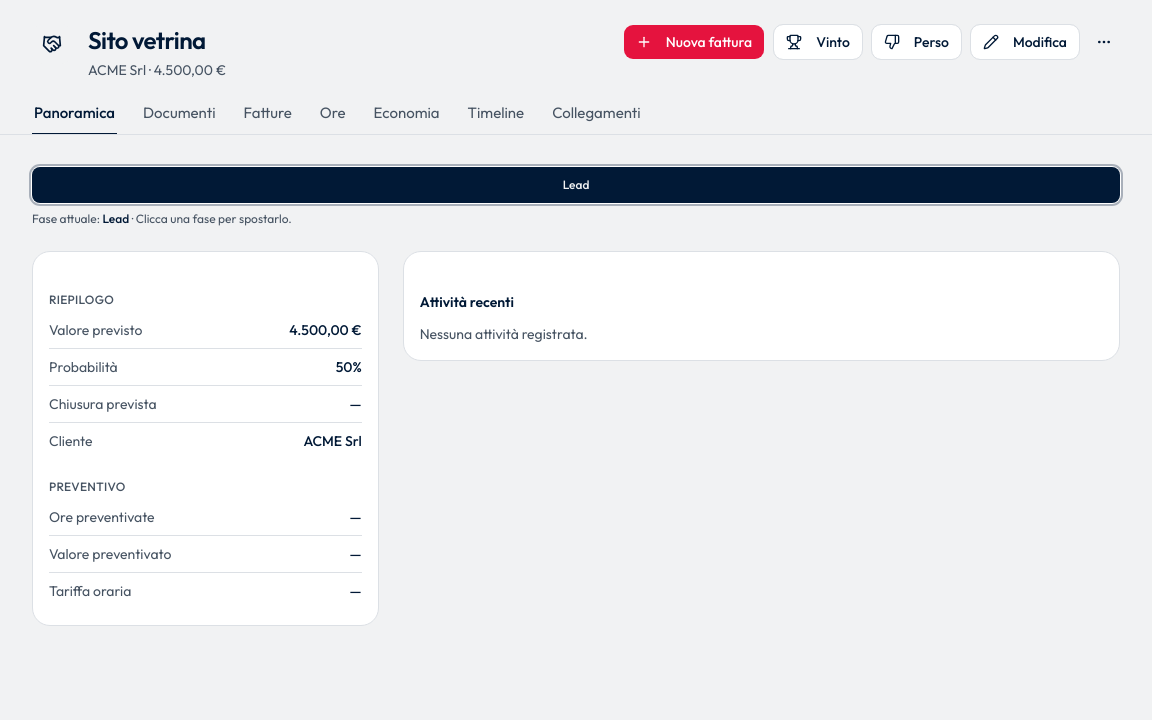
Test: DealDetail › the «Nuova fattura» action › opens a proforma already filled in from the deal
Check: the tab "Panoramica" is shown, box top-left (32, 102), bottom-right (117, 134)
Click the button "Nuova fattura" at (694, 42), box top-left (623, 24), bottom-right (765, 60)
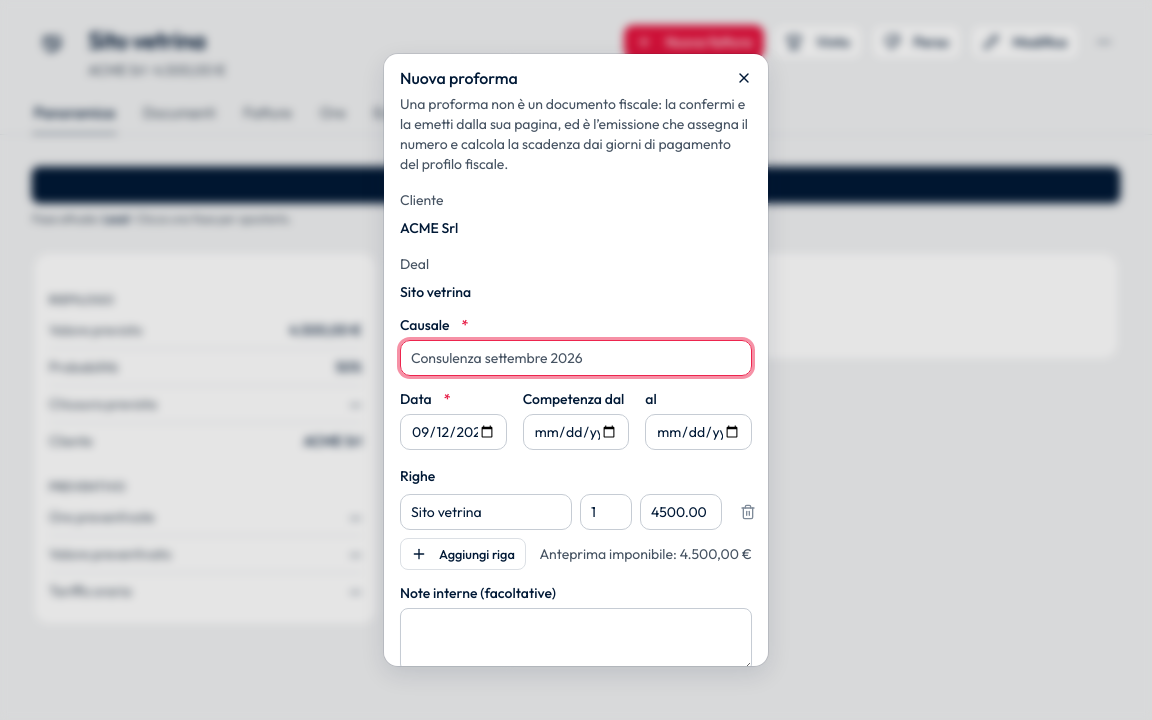
Check: the field named "Descrizione riga 1" holds "Sito vetrina", box top-left (400, 494), bottom-right (572, 530)
Check: the field named "Prezzo unitario riga 1" holds "4500.00", box top-left (640, 494), bottom-right (722, 530)
Check: the text "ACME Srl" is shown, box top-left (400, 219), bottom-right (458, 237)
